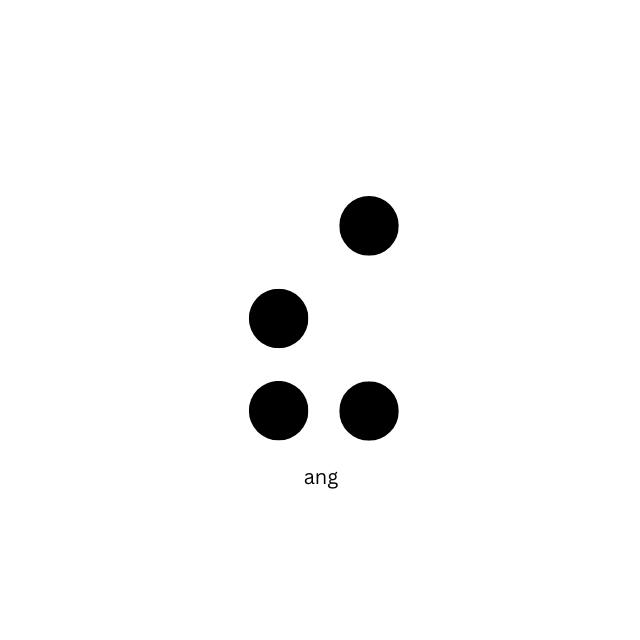one_cell_non_alphabet_ang: (248, 193, 401, 442)
